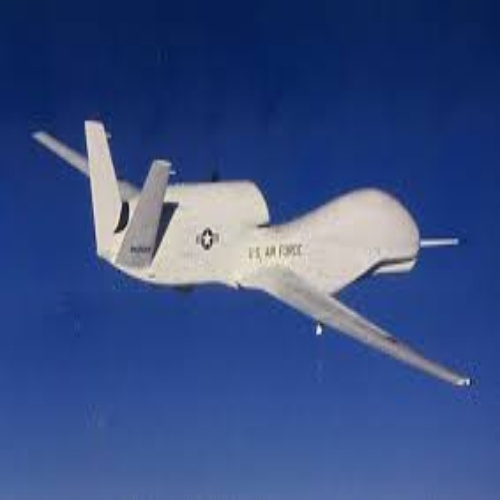uav98: (31, 119, 475, 388)
